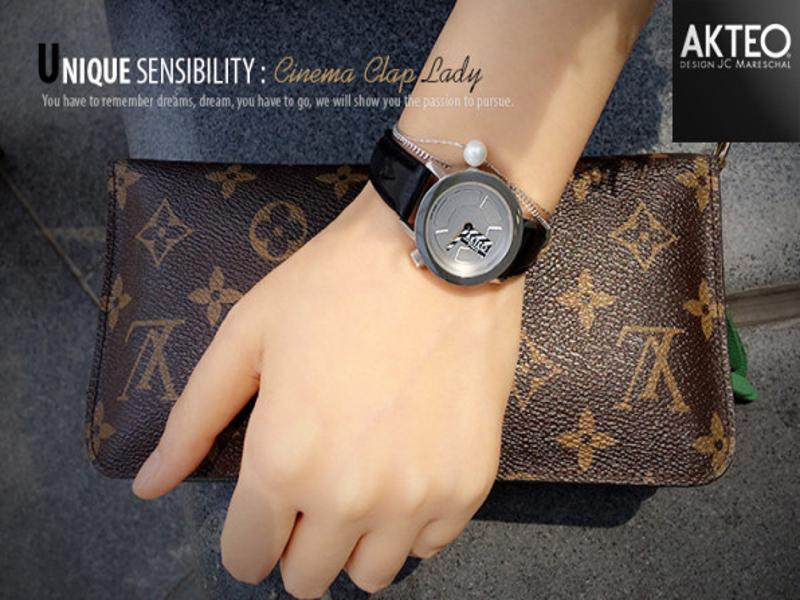watch: (367, 126, 549, 287)
